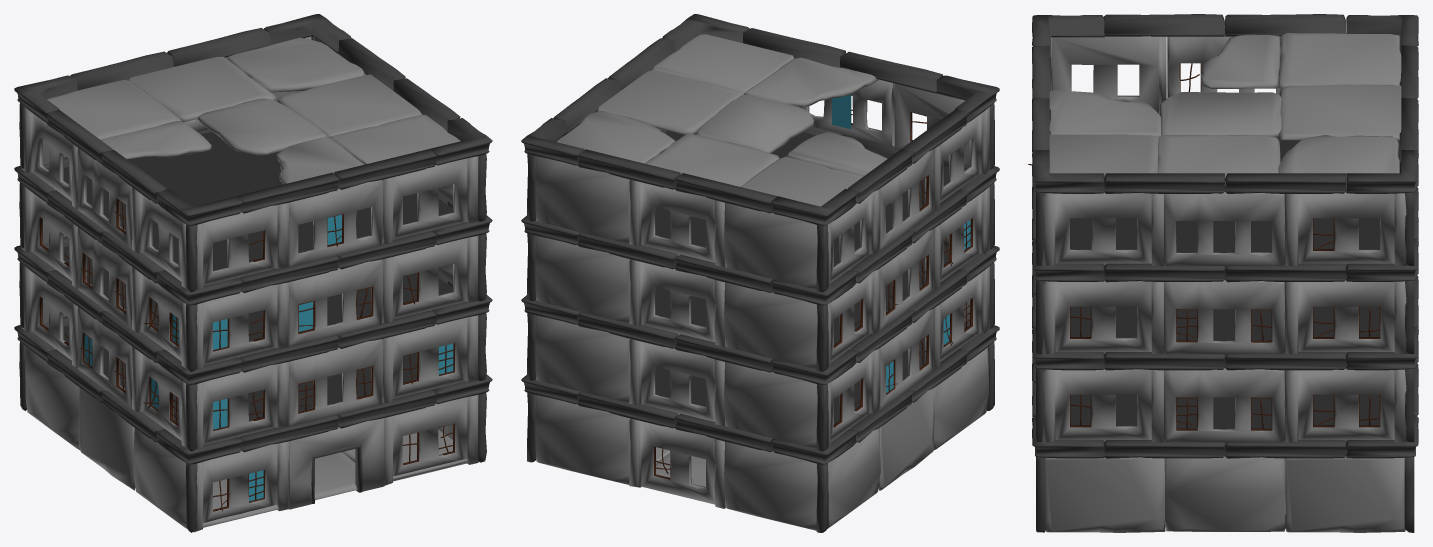
Rendered from SM_building_ruins_02.fbx.
The picture shows the model from 3 angles, left to right: view 1: azimuth 30°, elevation 25°; view 2: azimuth 150°, elevation 25°; view 3: azimuth 270°, elevation 25°; orthographic projection. The views are drawn at different scales.
Visible parts, largest first — view 1: Object075; view 2: Object075; view 3: Object075.
Boxes of the visible parts, bbox=[...] form: Object075: bbox=[14, 14, 492, 532]; Object075: bbox=[521, 14, 999, 532]; Object075: bbox=[1028, 14, 1418, 532].
Bounding box in the file's own units: 640 × 638 × 634.
